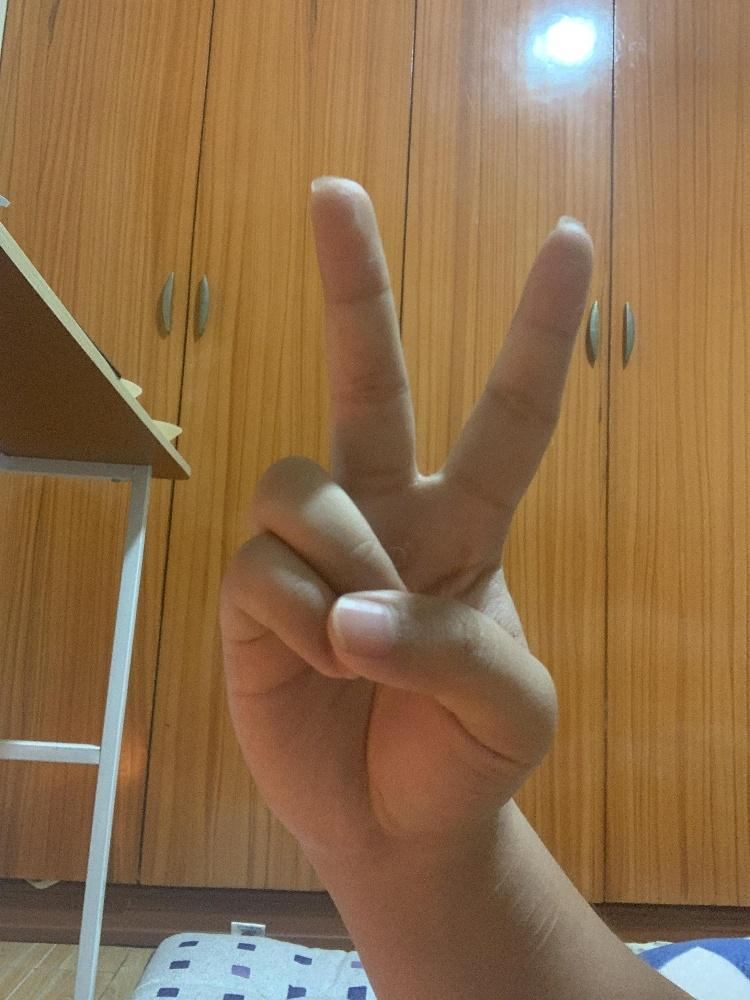v: (214, 172, 593, 849)
